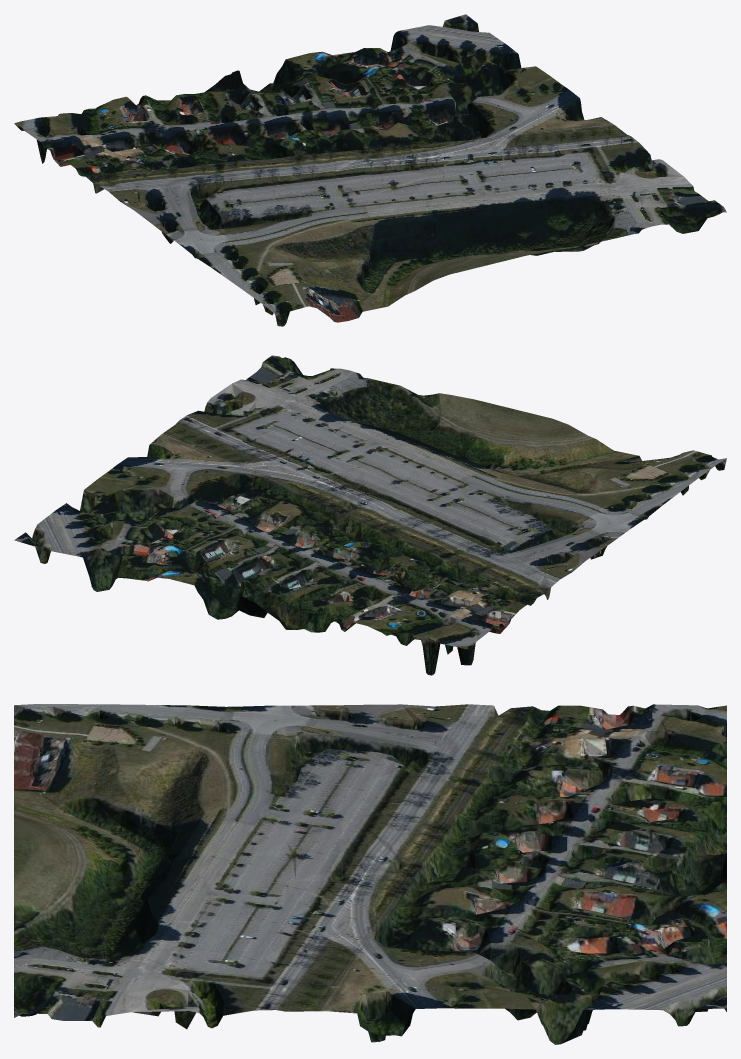
The model's file is map_13_2045_3449.dae.
3 renders of one model, top to bottom at view 1: azimuth 30°, elevation 25°; view 2: azimuth 150°, elevation 25°; view 3: azimuth 270°, elevation 25°, orthographic. The views are drawn at different scales.
Visible parts, largest first — view 1: Ter0; view 2: Ter0; view 3: Ter0.
Part boxes in pixels (left/top/right/bottom): Ter0: left=14, top=14, right=726, bottom=326; Ter0: left=14, top=355, right=726, bottom=675; Ter0: left=14, top=704, right=726, bottom=1044.
Size of the model in its own units: 256 by 256 by 21.26.
2 materials, 2 textured.
